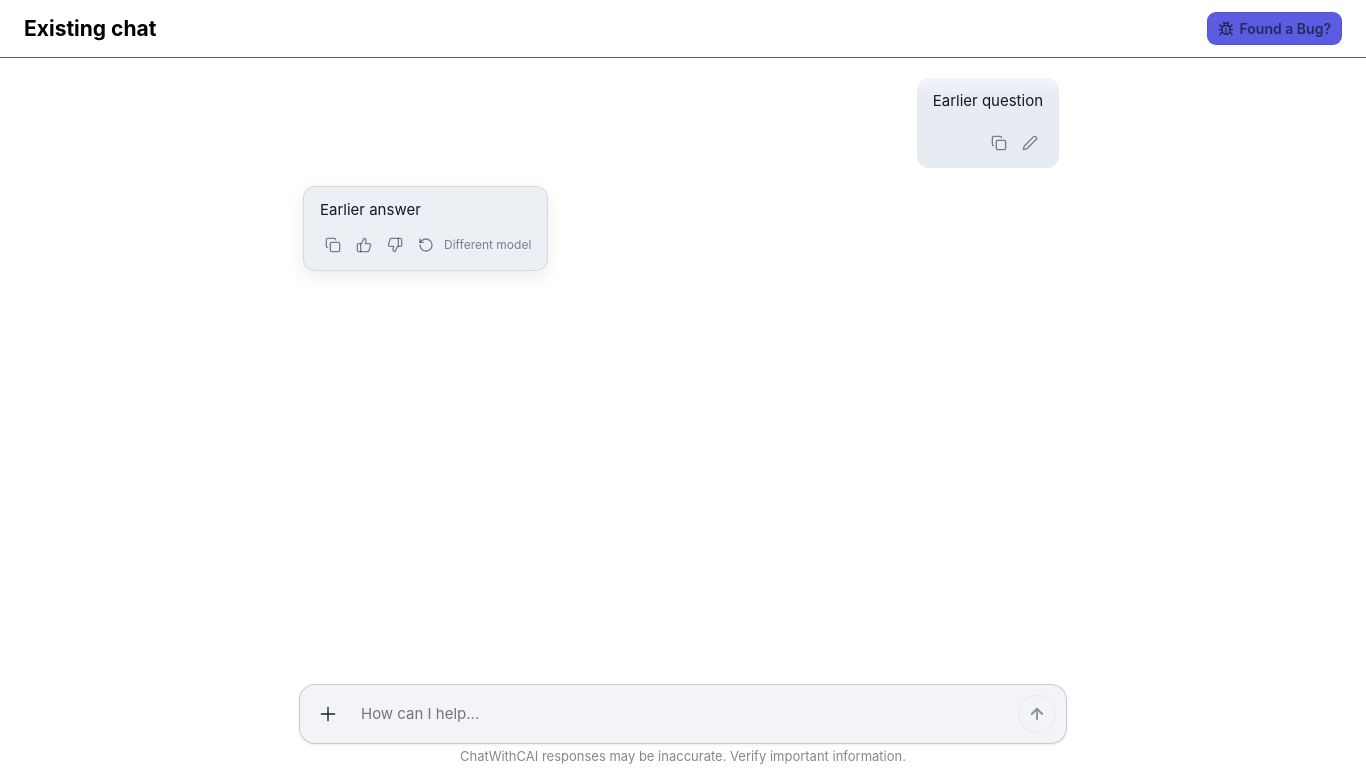
Test: chat message sending › regenerates using only the selected alternative rank
Expected: the text "Earlier answer" is shown, [320,200,421,218]
What coordinates should you click on to do the following:
click the button named "Try again..."
I would click on:
 (426, 245)
Its box is [413,232,439,258].
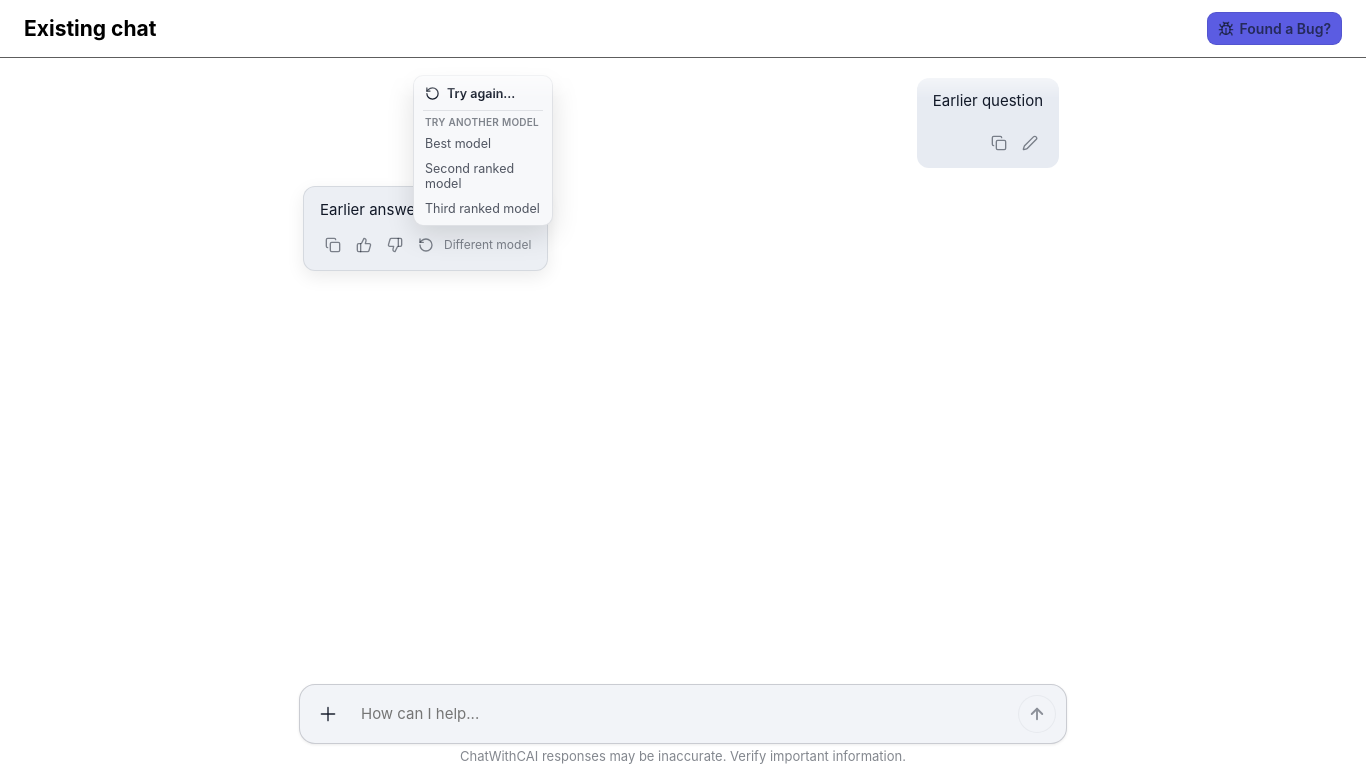
Result: the menu item "Best model" is shown at [418,131,548,156]
Result: the menu item "Second ranked model" is shown
Result: the menu item "Third ranked model" is shown at [418,196,548,221]
What coordinates should you click on to do the following:
click the menu item "Second ranked model"
I would click on:
 (483, 176)
Its box is [418,156,548,196].
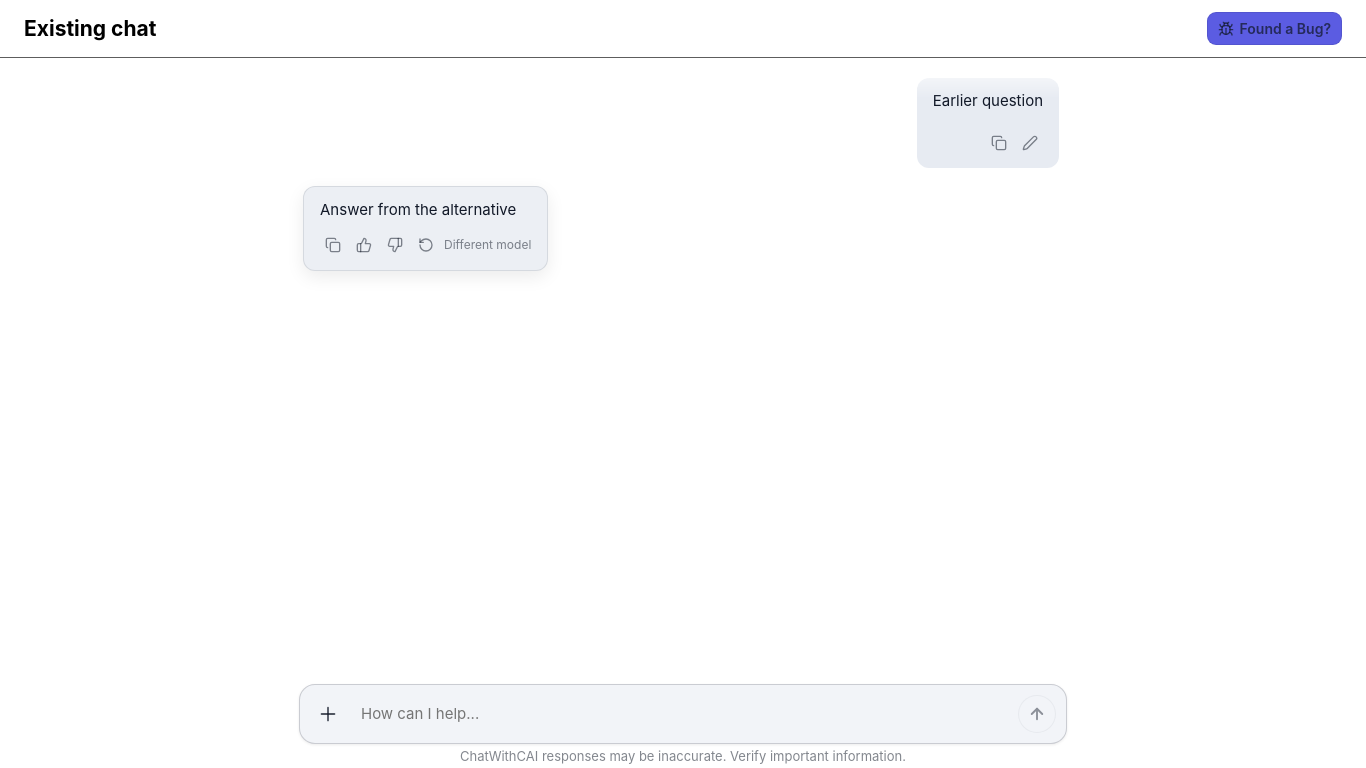
Result: the text "Answer from the alternative" is shown at [320,198,531,221]
